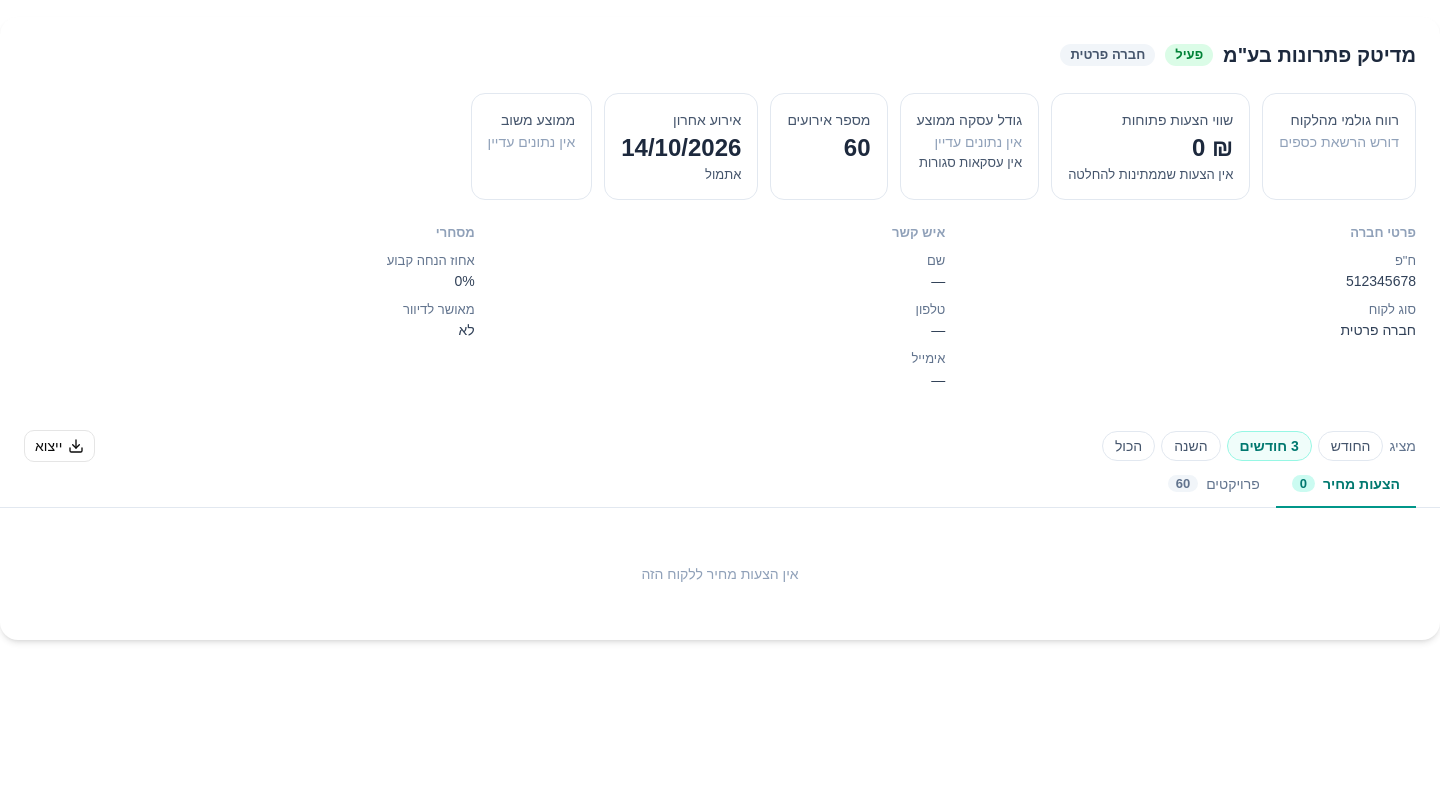
דפדוף — מעל 50 פרויקטים › customer-projects-pager מופיע, ועמוד 1 מציג רק 50 מתוך 60
Click the button with test id "customer-tab-projects". click: (1214, 485)
box: x1=1152 y1=462 x2=1276 y2=508
(page scrolled)
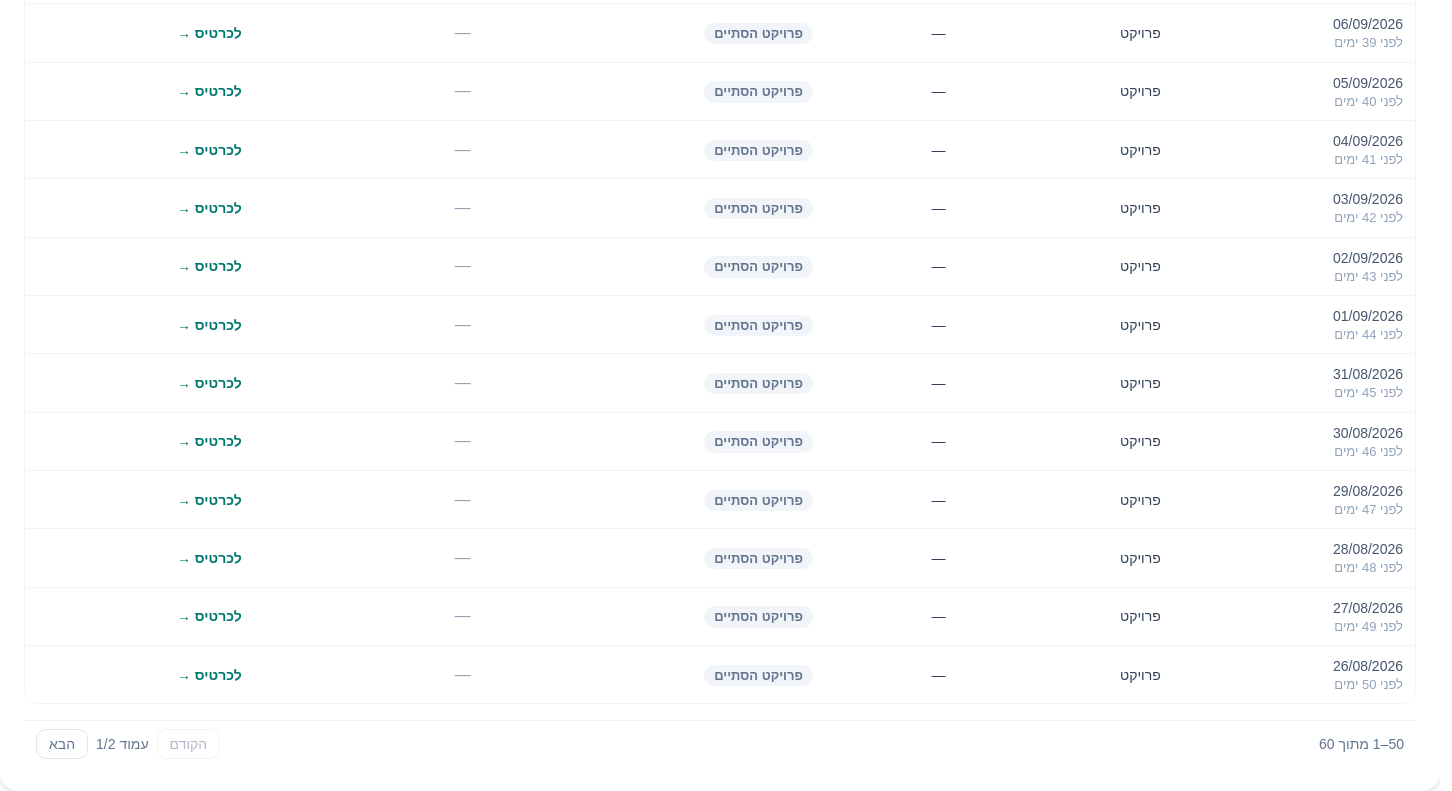
Check: the element with test id "customer-projects-pager" is shown, box x1=24 y1=720 x2=1416 y2=767
Check: the element with test id "customer-projects-pager-range" shows "60", box x1=1319 y1=736 x2=1335 y2=752
